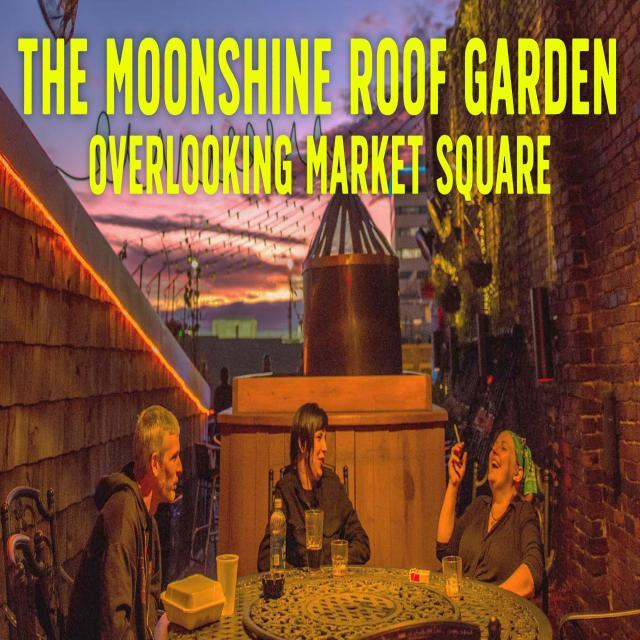cigarette: (449, 411, 466, 461)
